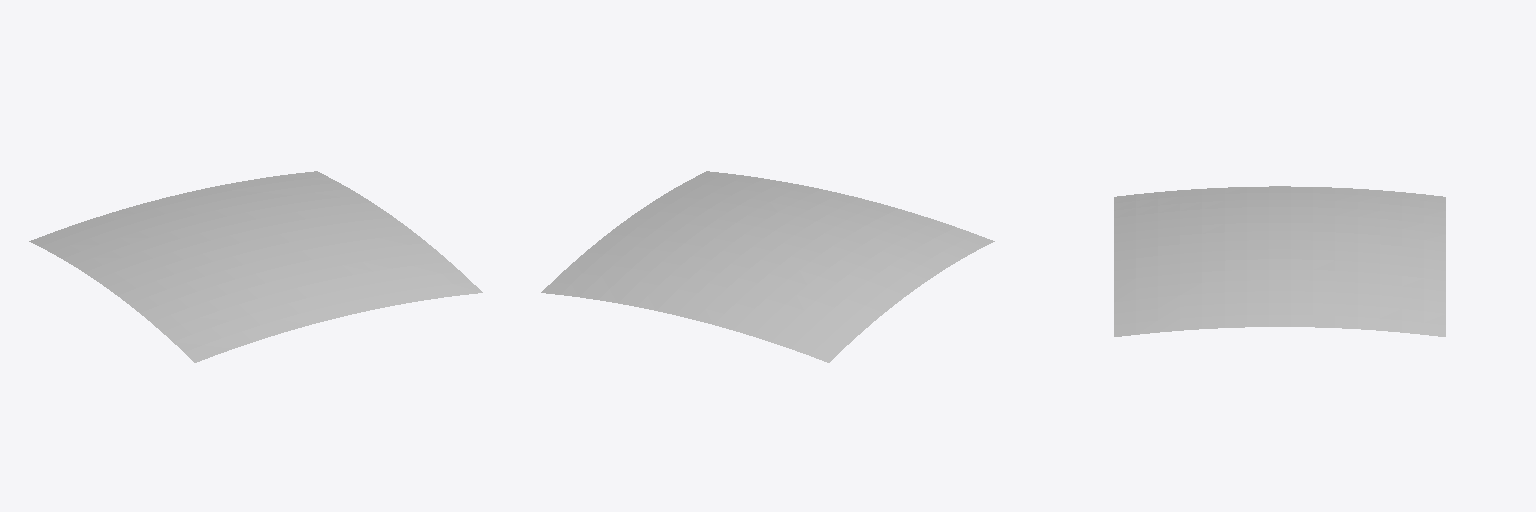
The model's file is quadri.obj.
3 views of the same model, side by side, from view 1: azimuth 30°, elevation 25°; view 2: azimuth 150°, elevation 25°; view 3: azimuth 270°, elevation 25° (orthographic).
Size of the model in its own units: 3 by 0.2229 by 3.